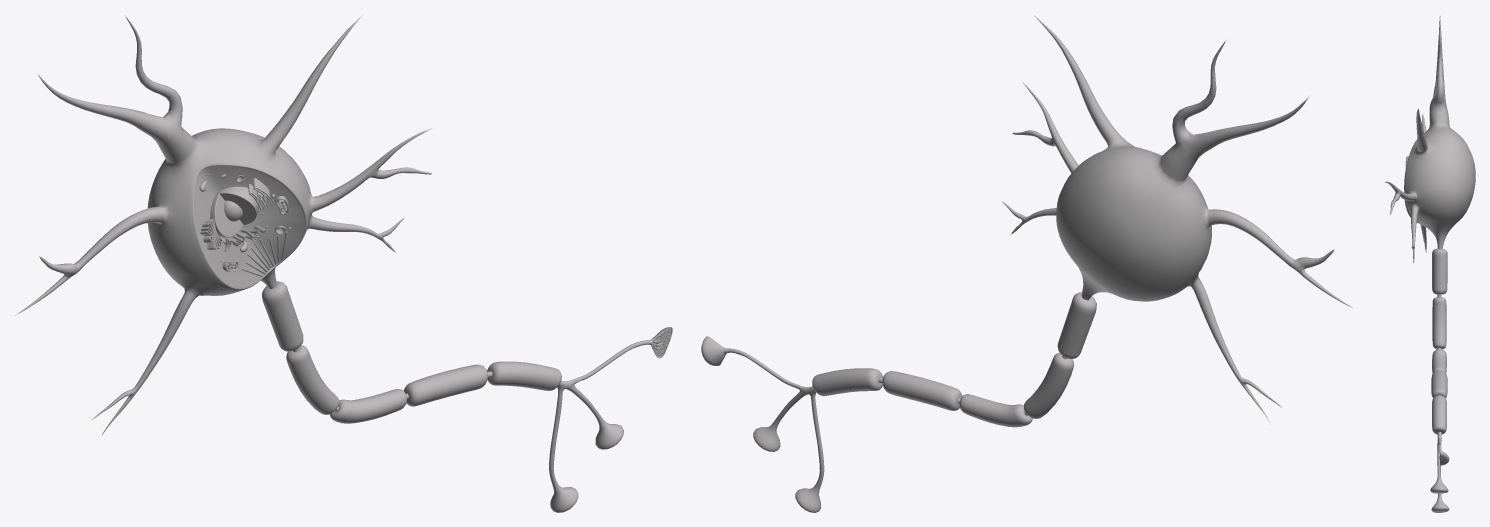
File: nervecell.glb
3 views of the same model, side by side, from view 1: azimuth 30°, elevation 25°; view 2: azimuth 150°, elevation 25°; view 3: azimuth 270°, elevation 25° (orthographic). The views are drawn at different scales.
Parts seen in each view (by area): view 1: node_id5; view 2: node_id5; view 3: node_id5.
Part boxes in pixels (bbox=[...]): node_id5: bbox=[15, 14, 672, 512]; node_id5: bbox=[701, 15, 1353, 512]; node_id5: bbox=[1384, 16, 1475, 512].
Size of the model in its own units: 0.4642 by 0.3983 by 0.0911.
1 material, 1 textured.
